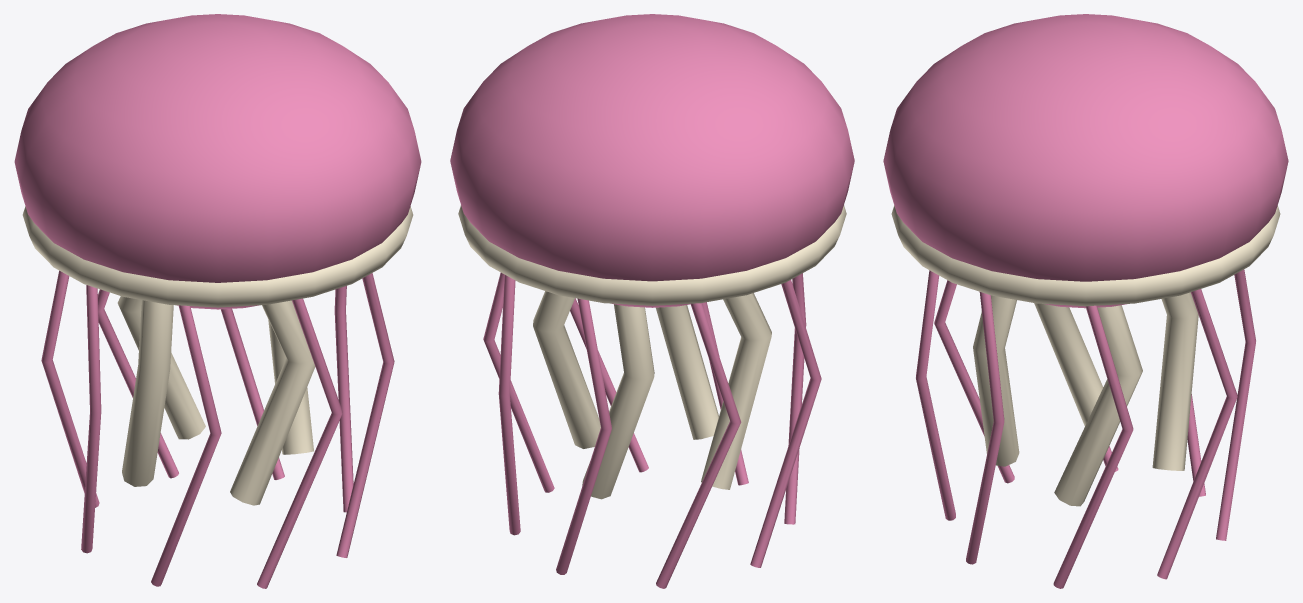
File: r087_development_undersea_additions_undersea_03.glb
3 views of the same model, side by side, from view 1: azimuth 30°, elevation 25°; view 2: azimuth 150°, elevation 25°; view 3: azimuth 270°, elevation 25° (orthographic).
Visible parts, largest first — view 1: r087_development_undersea_additions_undersea_03.001; view 2: r087_development_undersea_additions_undersea_03.001; view 3: r087_development_undersea_additions_undersea_03.001.
Part boxes in pixels (x1,y1,x2,y2): r087_development_undersea_additions_undersea_03.001: (14,14,421,588); r087_development_undersea_additions_undersea_03.001: (450,14,854,588); r087_development_undersea_additions_undersea_03.001: (883,14,1288,588).
Bounding box in the file's own units: 2.5 × 3.33 × 2.5.
